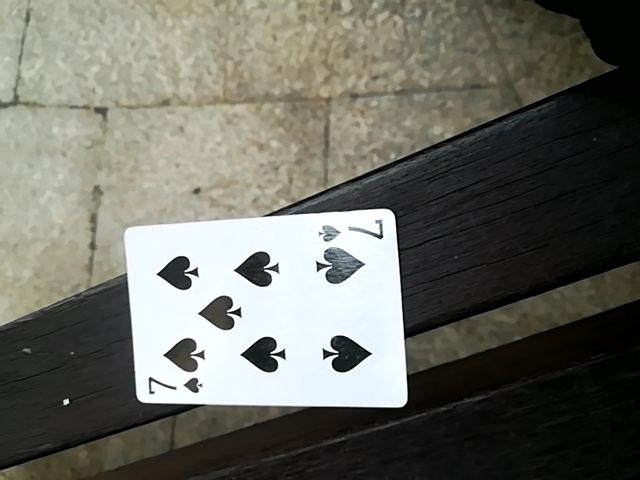ht 7: (121, 211, 413, 412)
